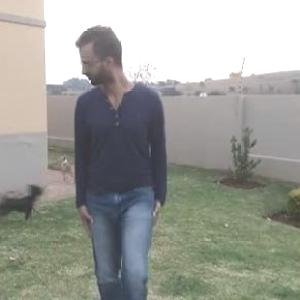follow: (69, 15, 163, 271)
